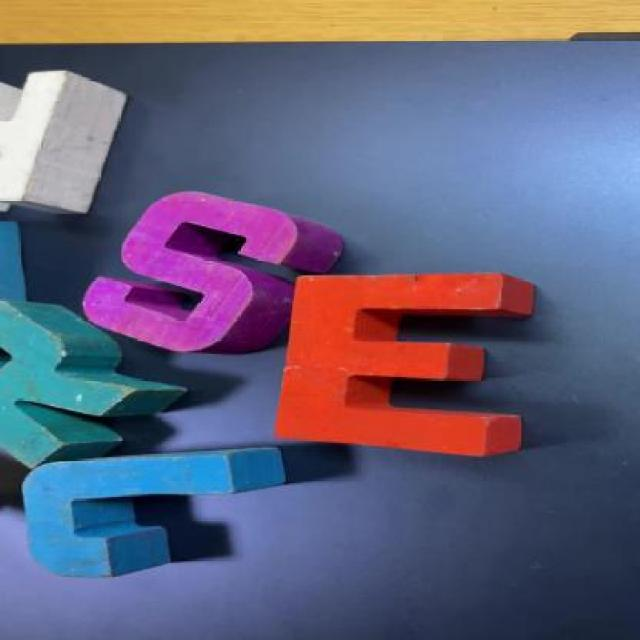E: (265, 266, 543, 465)
S: (79, 186, 338, 360)
